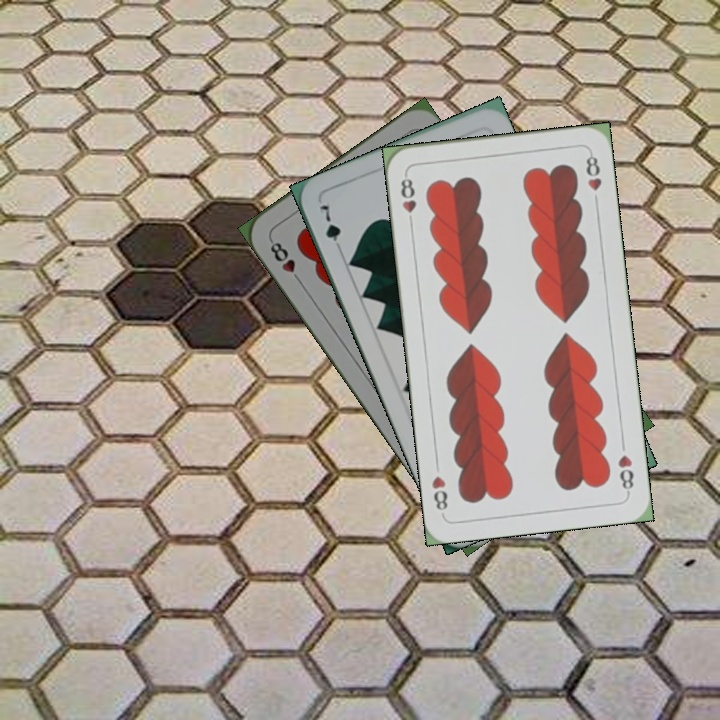G7: (315, 201, 346, 256)
H8: (265, 235, 305, 287), (397, 170, 419, 229), (613, 450, 636, 497)
